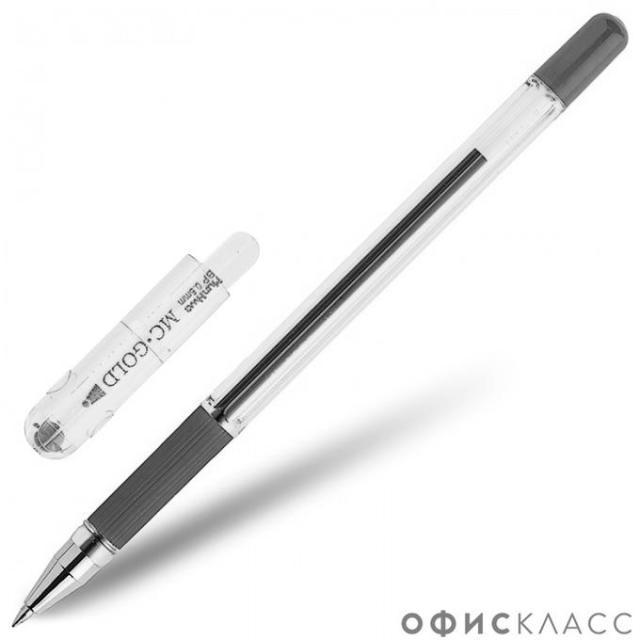pencil: (0, 0, 633, 623)
